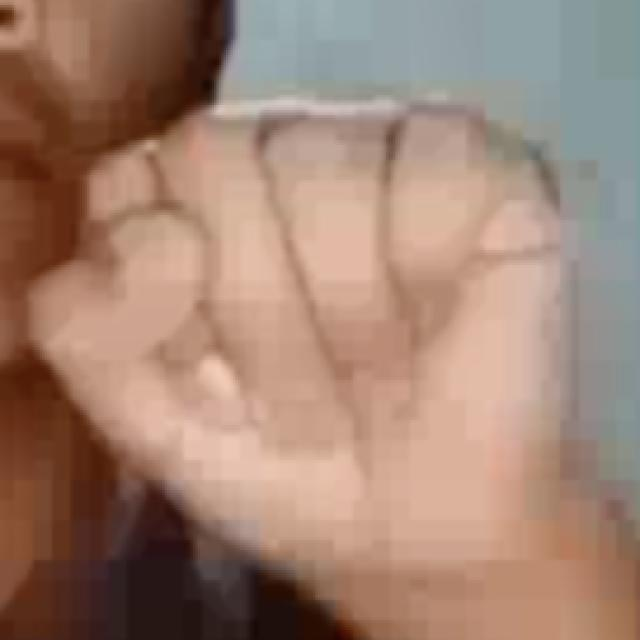S: (18, 90, 604, 617)
